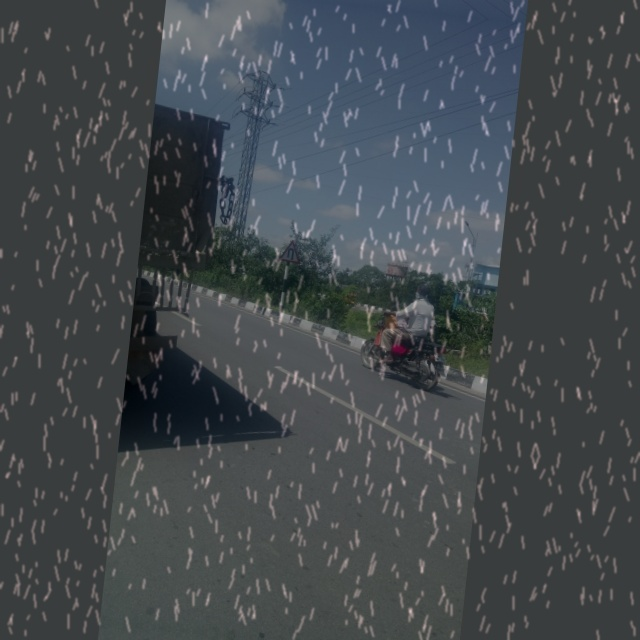U_Turn_Ahead: (274, 234, 308, 270)
